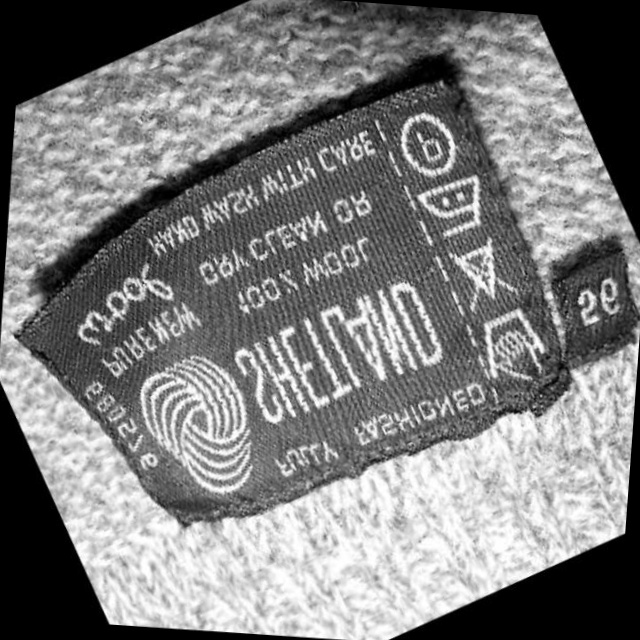DN_bleach: (443, 236, 525, 315)
dry_clean_any_solvent_except_trichloroethylene: (396, 107, 464, 180)
hand_wash: (478, 306, 554, 396)
iron_medium: (414, 172, 492, 242)
